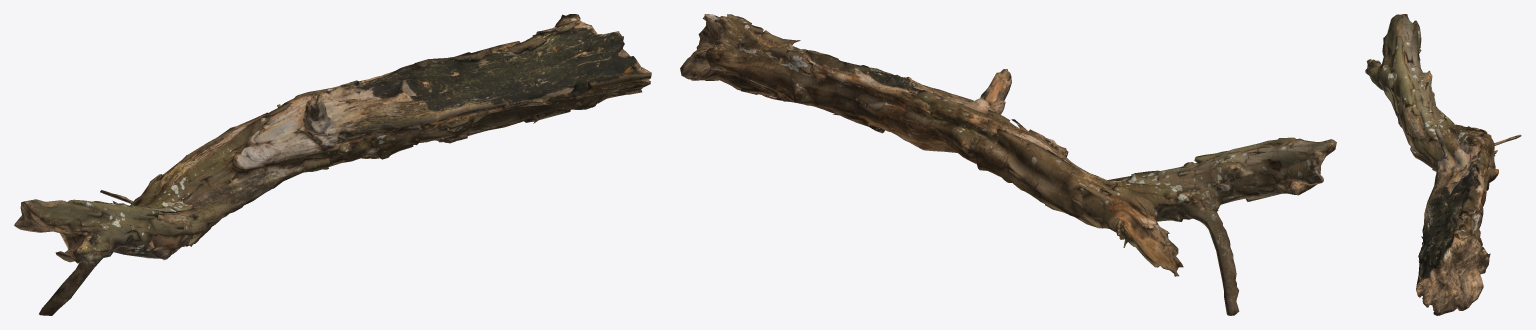
Rendered from dead_tree_trunk_02.gltf.
3 renders of one model, left to right at view 1: azimuth 30°, elevation 25°; view 2: azimuth 150°, elevation 25°; view 3: azimuth 270°, elevation 25°, orthographic. The views are drawn at different scales.
Visible parts, largest first — view 1: dead_tree_trunk_02; view 2: dead_tree_trunk_02; view 3: dead_tree_trunk_02.
Part boxes in pixels (<box>): dead_tree_trunk_02: <box>14,14,651,315</box>; dead_tree_trunk_02: <box>680,14,1336,315</box>; dead_tree_trunk_02: <box>1365,14,1521,315</box>.
Size of the model in its own units: 4.05 by 1.05 by 1.05.
1 material, 1 textured.
